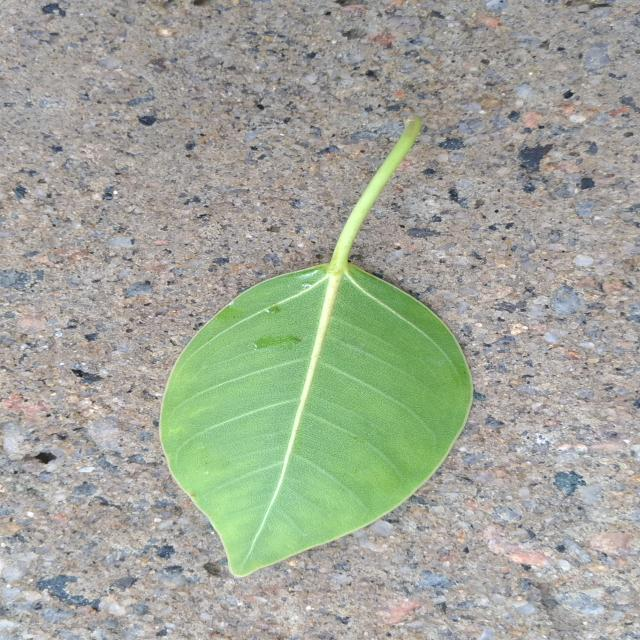camphor: (160, 116, 473, 576)
